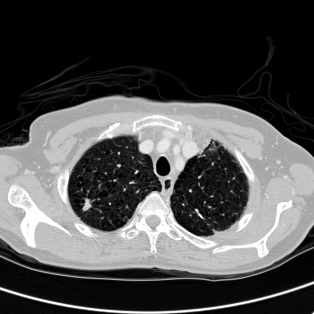PN: (81, 200, 93, 212)
